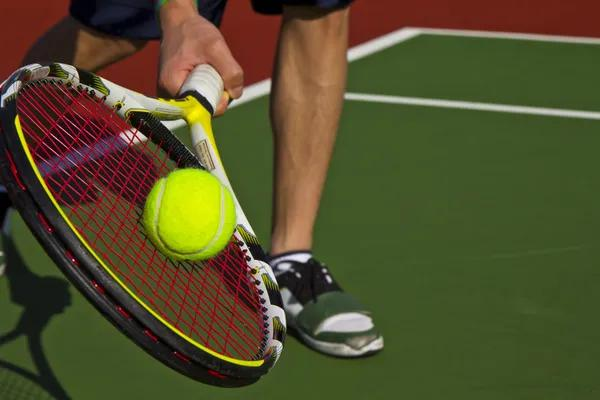ball_tennis: (143, 166, 242, 269)
